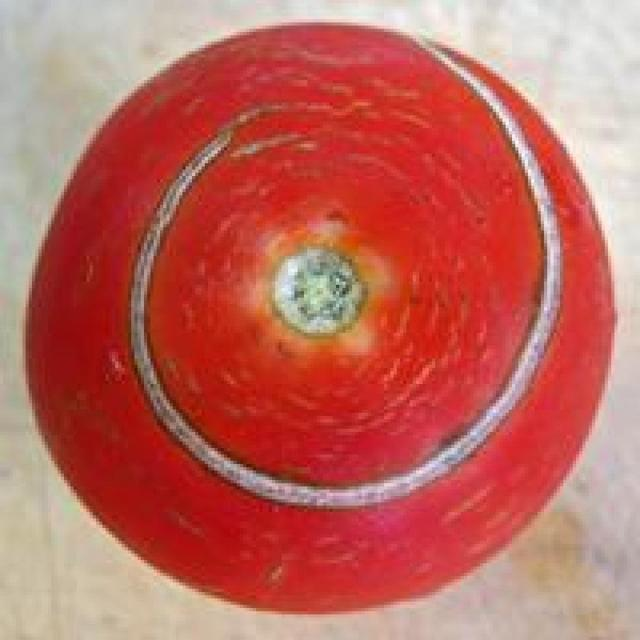Cracking Fruit: (83, 15, 383, 352)
